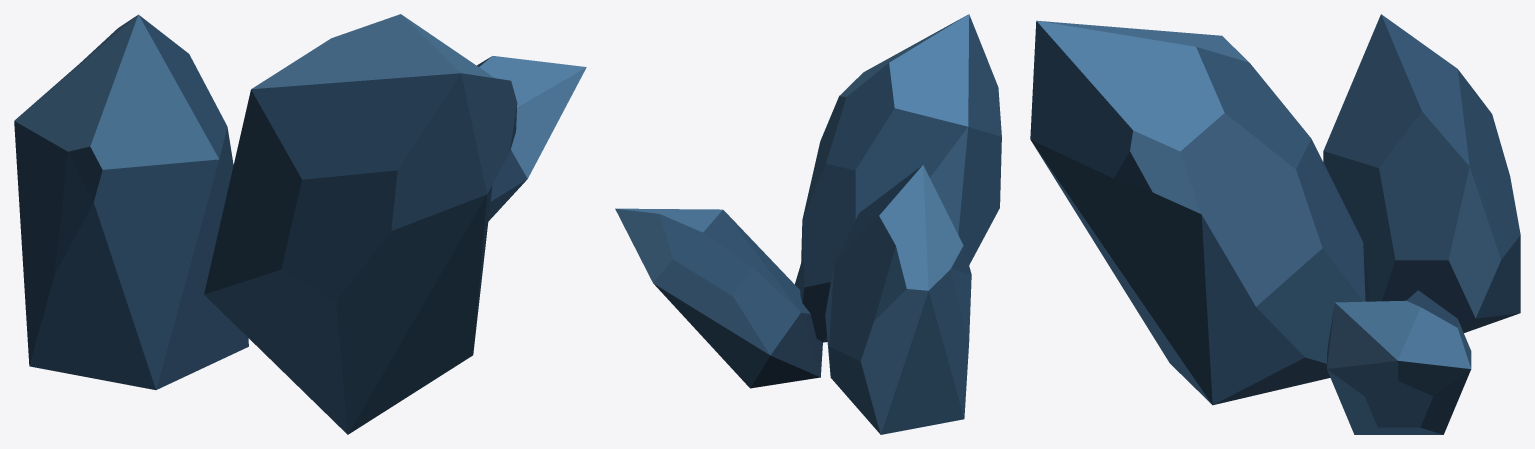
Rendered from MithrilRock.glb.
3 renders of one model, left to right at view 1: azimuth 30°, elevation 25°; view 2: azimuth 150°, elevation 25°; view 3: azimuth 270°, elevation 25°, orthographic. The views are drawn at different scales.
Parts seen in each view (by area): view 1: Icosphere.002; view 2: Icosphere.002; view 3: Icosphere.002.
Part boxes in pixels (x1=…): Icosphere.002: x1=14, y1=14, x2=586, y2=434; Icosphere.002: x1=615, y1=14, x2=1001, y2=434; Icosphere.002: x1=1030, y1=14, x2=1520, y2=434.
Bounding box in the file's own units: 0.5873 × 0.4507 × 0.5222.
